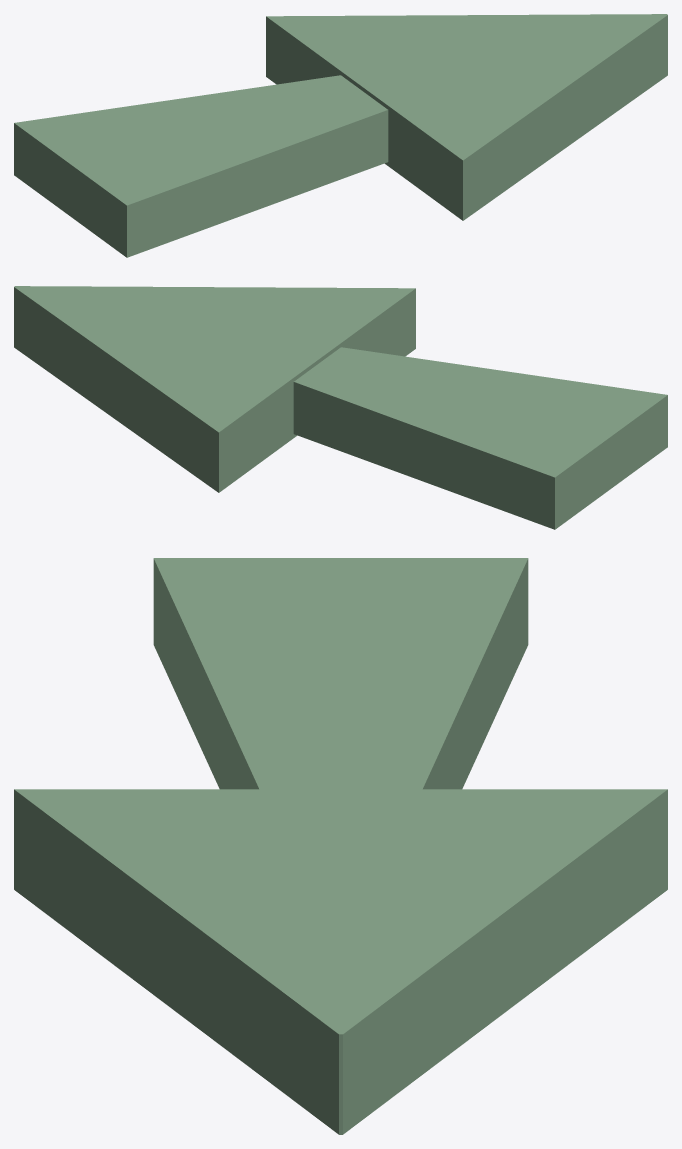
Rendered from arrow.fbx.
The picture shows the model from 3 angles, top to bottom: view 1: azimuth 30°, elevation 25°; view 2: azimuth 150°, elevation 25°; view 3: azimuth 270°, elevation 25°; orthographic projection. The views are drawn at different scales.
Visible parts, largest first — view 1: glowing_arrow:polySurface7; view 2: glowing_arrow:polySurface7; view 3: glowing_arrow:polySurface7.
Part boxes in pixels (box(x1,y1,x2,y2)): glowing_arrow:polySurface7: box(14, 14, 667, 257); glowing_arrow:polySurface7: box(14, 286, 667, 529); glowing_arrow:polySurface7: box(14, 558, 667, 1134).
Bounding box in the file's own units: 1.55 × 0.1506 × 0.8891.
